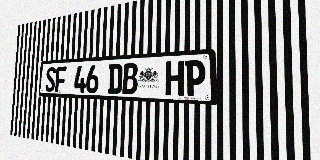4: (74, 65, 86, 93)
6: (86, 65, 99, 93)
B: (122, 63, 138, 94)
D: (108, 64, 123, 94)
F: (55, 66, 66, 92)
H: (165, 61, 184, 96)
P: (185, 60, 205, 96)
S: (45, 67, 56, 92)
